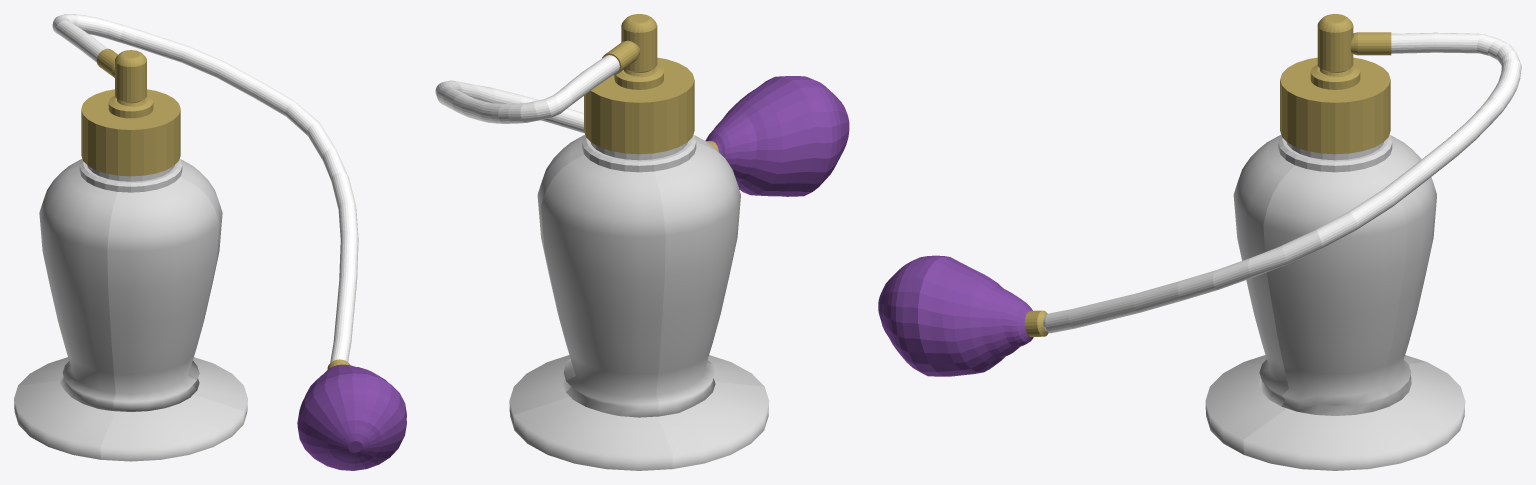
The model's file is parfüm_bottle.fbx.
The picture shows the model from 3 angles, left to right: view 1: azimuth 30°, elevation 25°; view 2: azimuth 150°, elevation 25°; view 3: azimuth 270°, elevation 25°; orthographic projection. The views are drawn at different scales.
Visible parts, largest first — view 1: Parfumflasche:FlascheShape; view 2: Parfumflasche:FlascheShape; view 3: Parfumflasche:FlascheShape.
Part boxes in pixels (x1,y1,x2,y2): Parfumflasche:FlascheShape: (14,14,406,470); Parfumflasche:FlascheShape: (435,14,849,470); Parfumflasche:FlascheShape: (878,14,1521,470).
Size of the model in its own units: 37.39 by 44.93 by 65.88.
